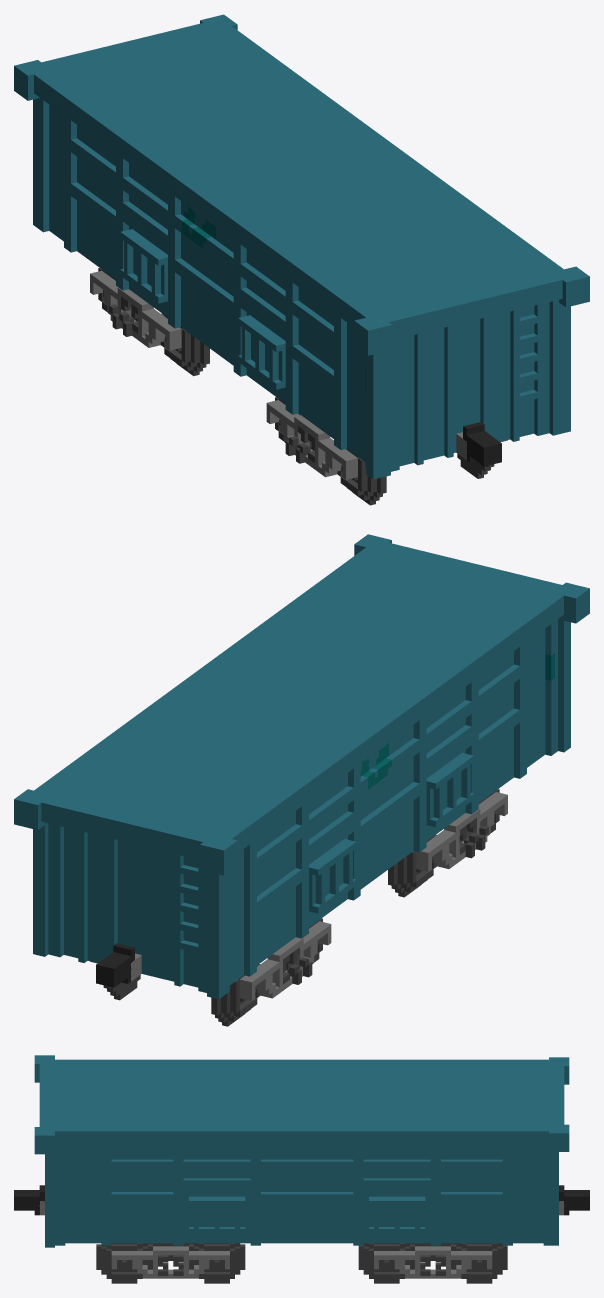
File: train_part_2.fbx
3 views of the same model, one above another, from view 1: azimuth 30°, elevation 25°; view 2: azimuth 150°, elevation 25°; view 3: azimuth 270°, elevation 25° (orthographic). The views are drawn at different scales.
Parts seen in each view (by area): view 1: train_part_01.train_part_01; view 2: train_part_01.train_part_01; view 3: train_part_01.train_part_01.
Part boxes in pixels (left/top/right/bottom): train_part_01.train_part_01: left=14, top=14, right=589, bottom=505; train_part_01.train_part_01: left=14, top=534, right=589, bottom=1026; train_part_01.train_part_01: left=14, top=1055, right=589, bottom=1283.
Bounding box in the file's own units: 3.7 × 3.6 × 11.2.
Materials: 1 (1 with a texture image).
